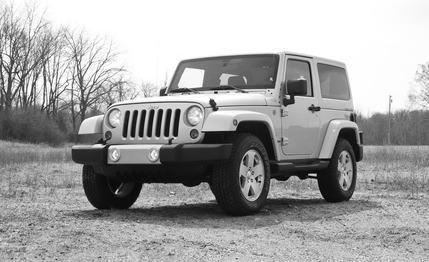car: (74, 52, 365, 215)
